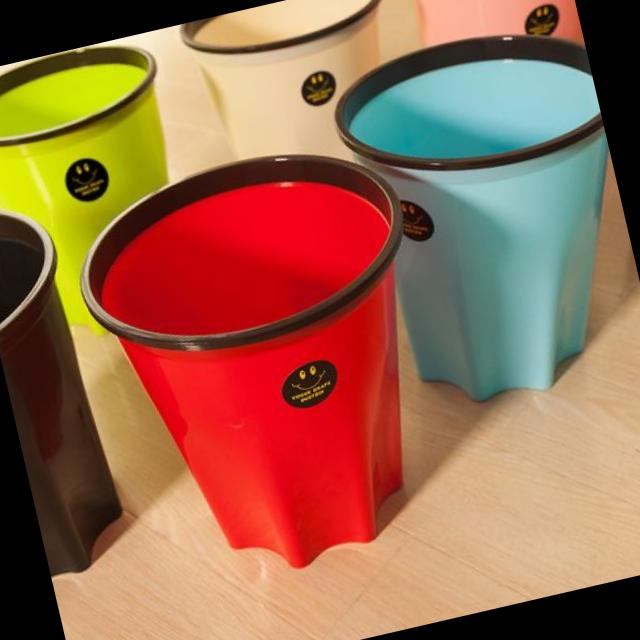dustbin: (58, 117, 479, 603), (323, 8, 640, 429)
